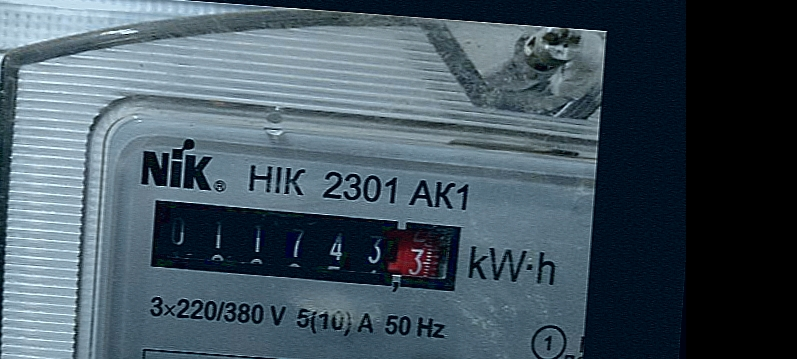0: (166, 210, 187, 248)
1: (249, 217, 266, 252), (212, 215, 224, 248)
3: (362, 229, 384, 265), (405, 244, 426, 278)
4: (325, 226, 345, 261)
7: (286, 222, 307, 257)
screen: (134, 185, 474, 303)
